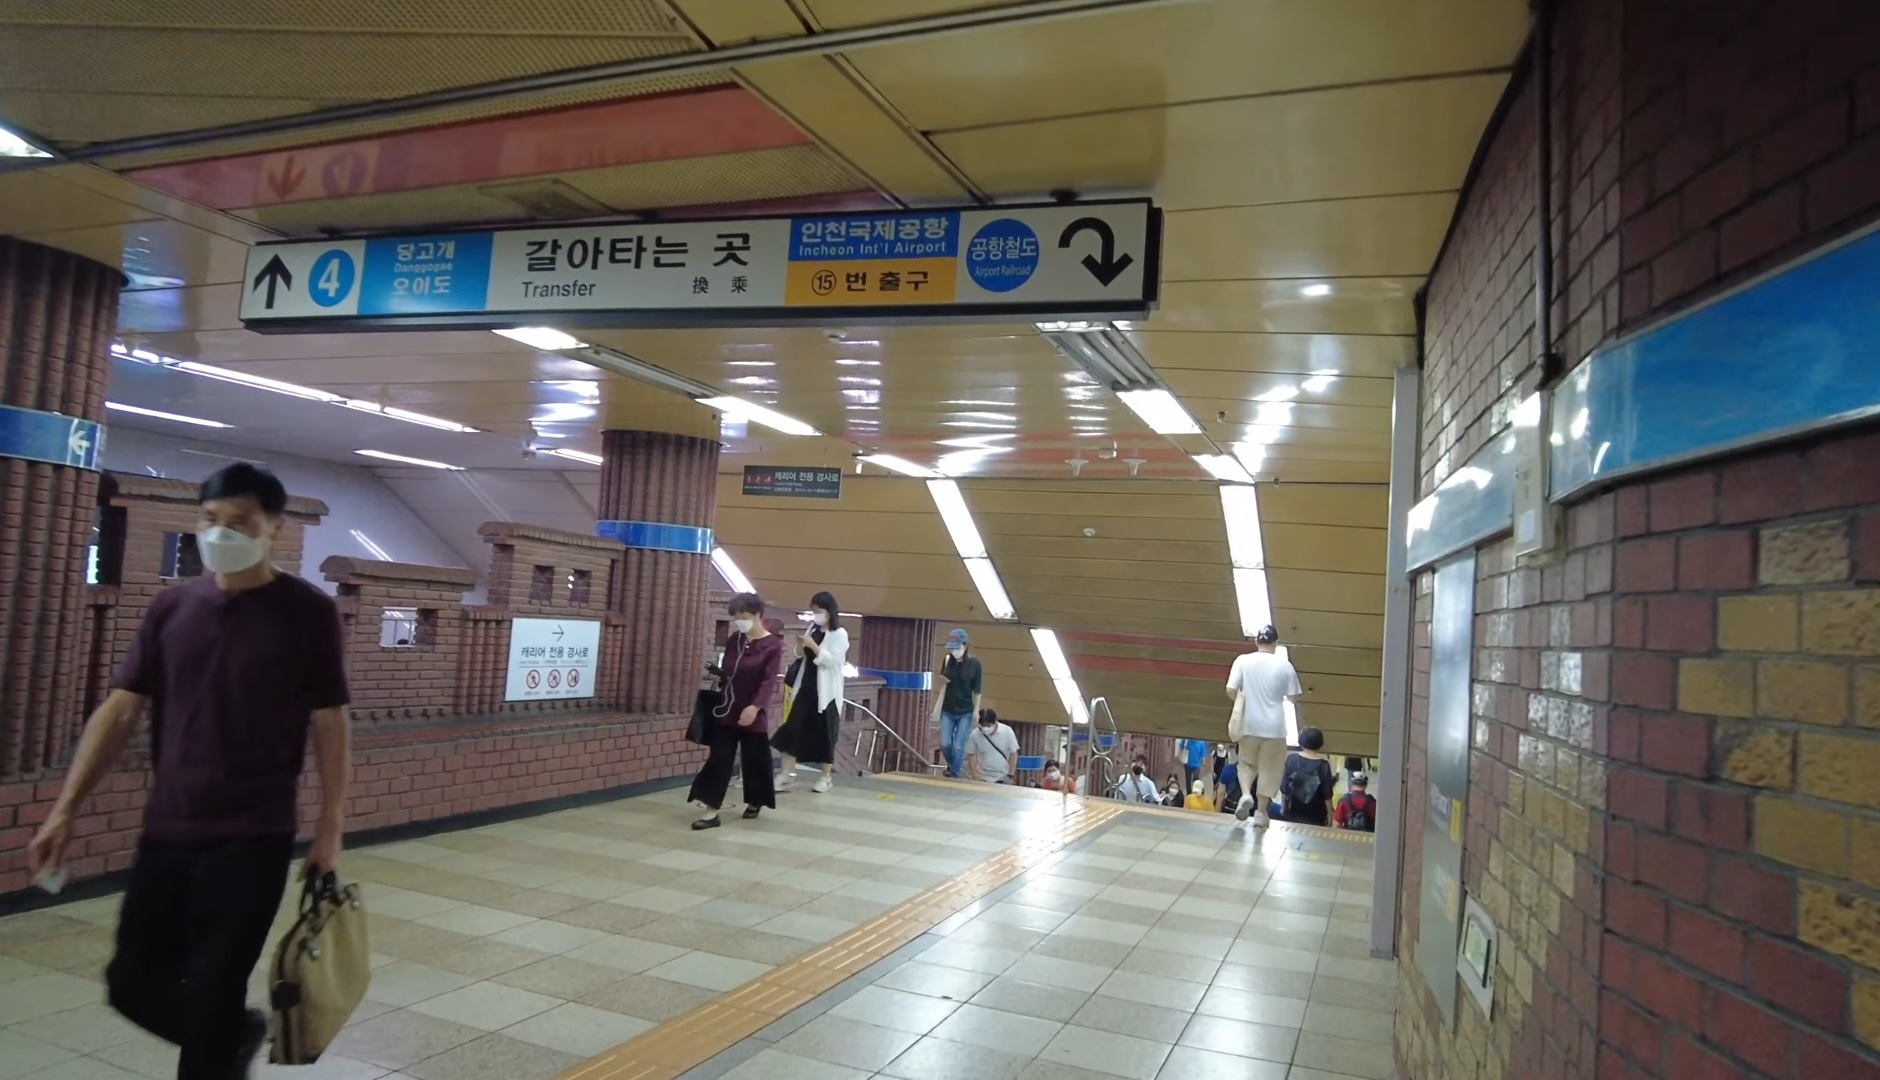signBoard: (220, 195, 1162, 337)
